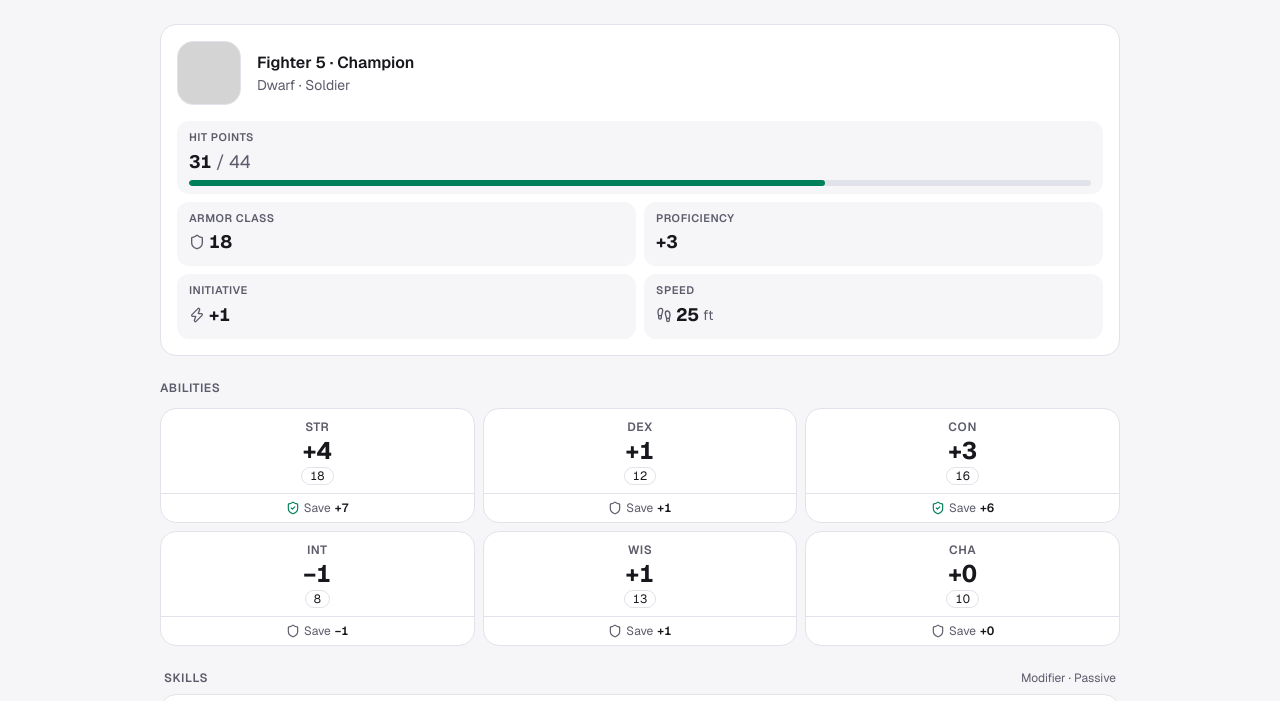
Test: components/character-sheet/character-sheet › closes the dialog without rolling
Right-click the button with aria-label "Strength check, +4" at (317, 450), box [161,408,474,492]
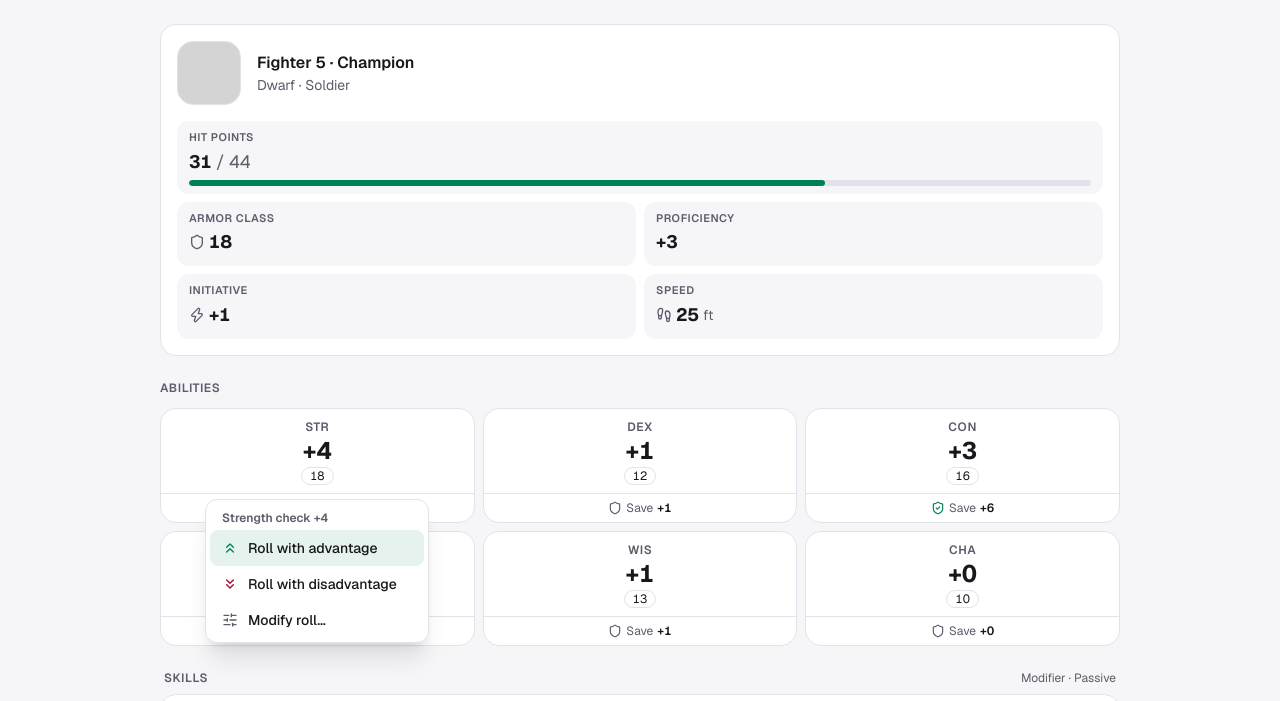
Click the menu item "Modify roll…" at (317, 620), box [210,602,424,638]
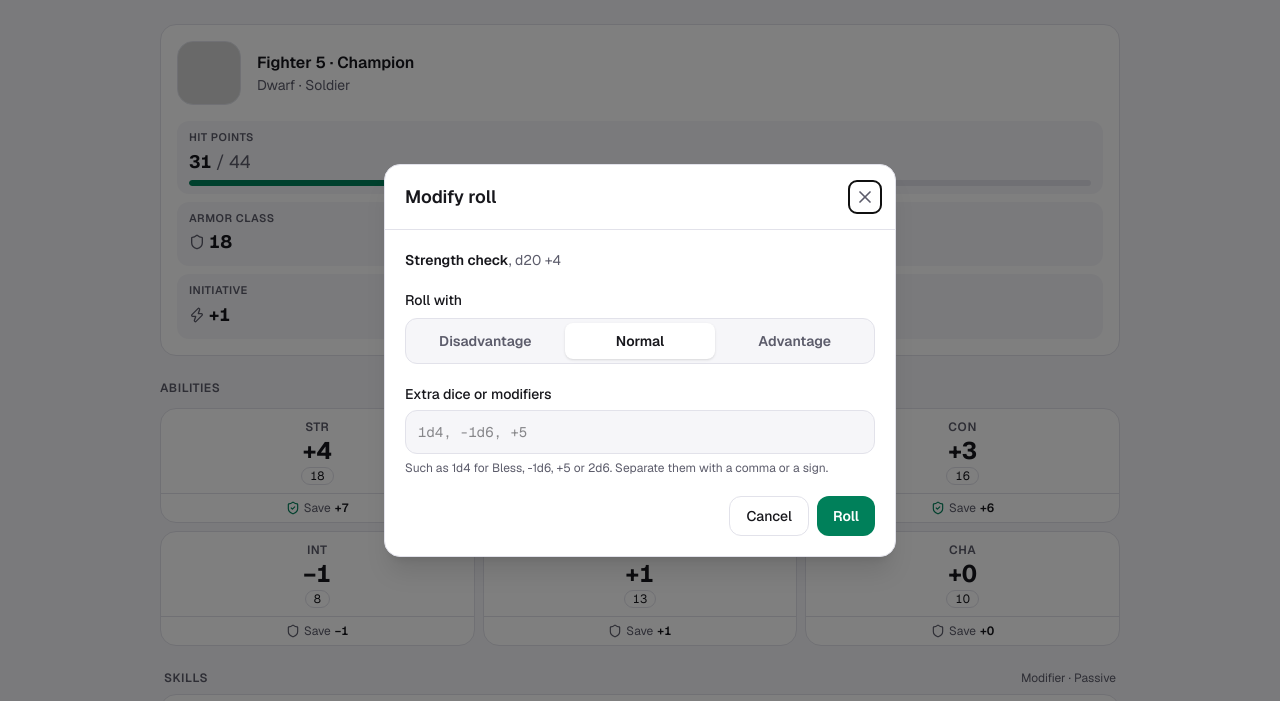
Click the button "Cancel" at (769, 516), box [730,496,809,536]
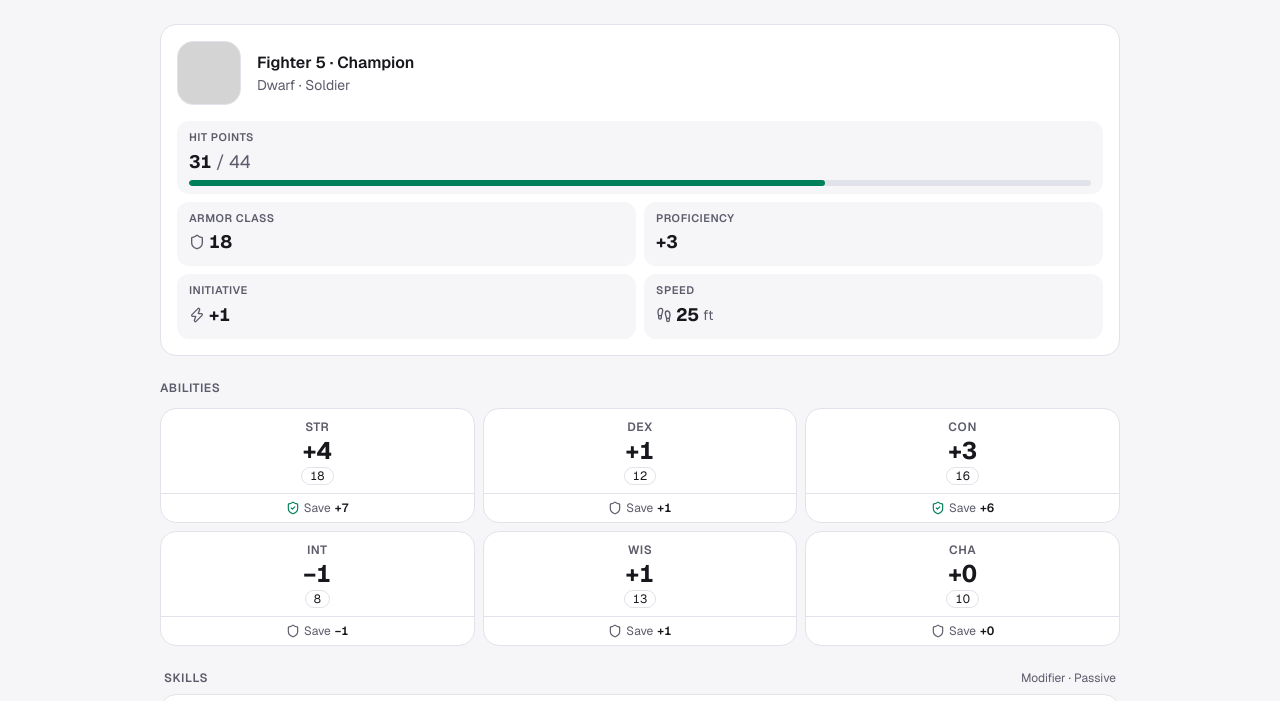
Right-click the button with aria-label "Strength check, +4" at (317, 450), box [161,408,474,492]
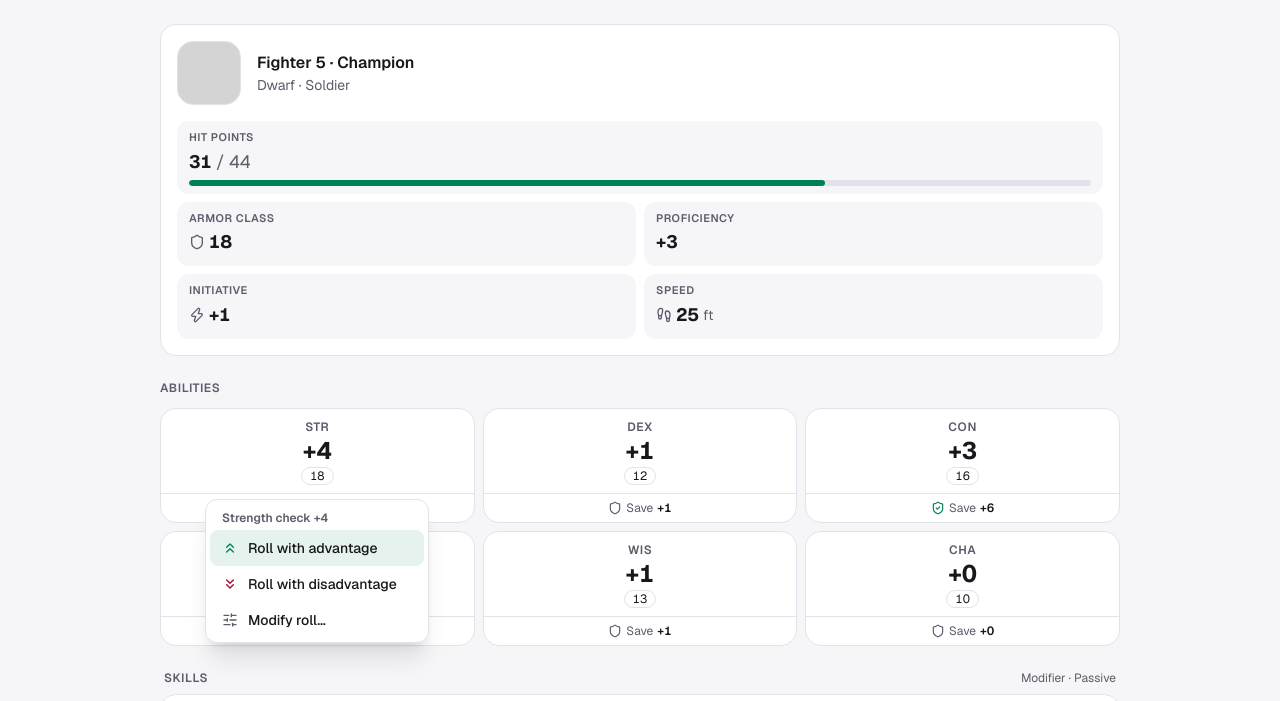
Press Escape
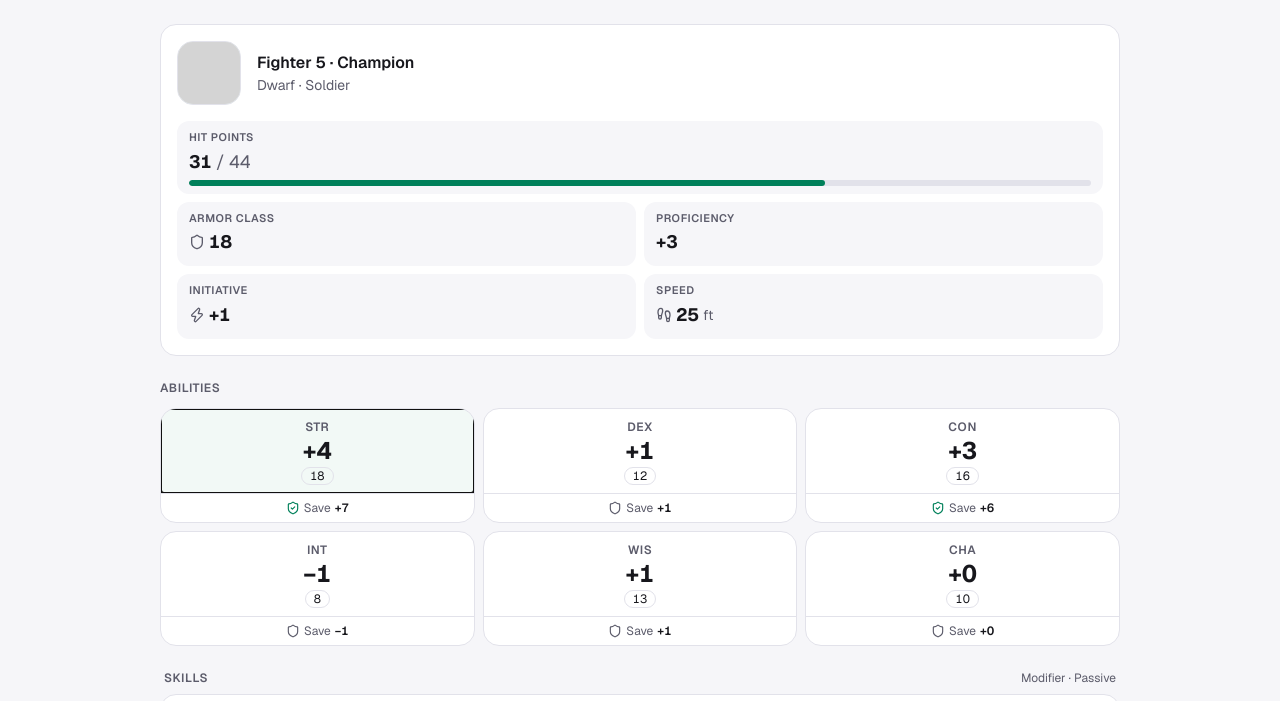
Expected: the menu is gone
